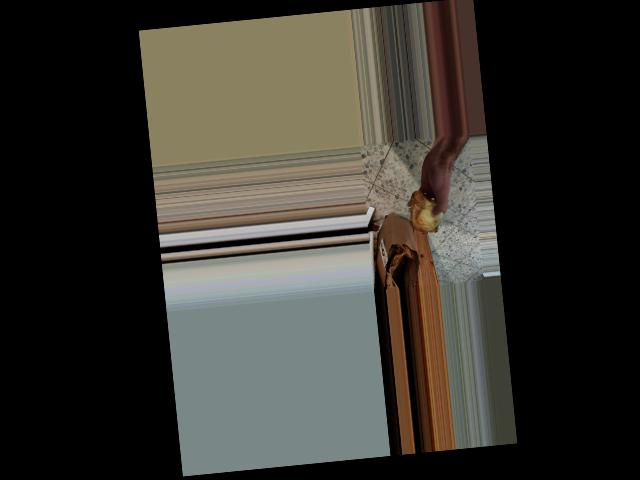onion: (405, 185, 445, 237)
